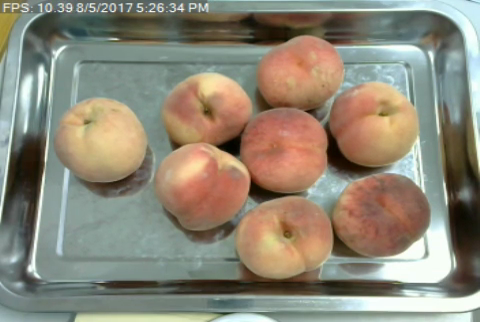Peach: (154, 141, 250, 232), (332, 169, 431, 257), (55, 95, 148, 185), (233, 198, 334, 279), (238, 106, 329, 193), (328, 80, 417, 168), (162, 71, 252, 147), (253, 35, 344, 109)
